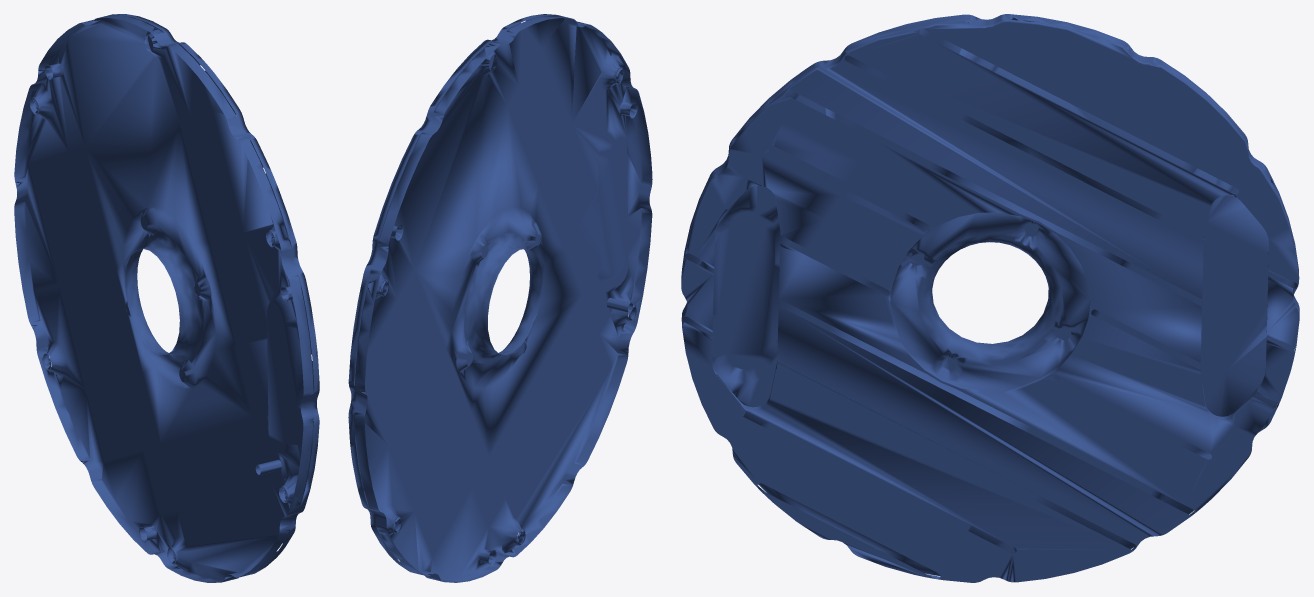
Rendered from anymal_hip_r_4.obj.
3 views of the same model, side by side, from view 1: azimuth 30°, elevation 25°; view 2: azimuth 150°, elevation 25°; view 3: azimuth 270°, elevation 25° (orthographic). The views are drawn at different scales.
Parts seen in each view (by area): view 1: anymal_hip_r_4; view 2: anymal_hip_r_4; view 3: anymal_hip_r_4.
Part boxes in pixels (x1,y1,x2,y2): anymal_hip_r_4: (14,14,319,582); anymal_hip_r_4: (348,14,652,582); anymal_hip_r_4: (681,14,1299,582).
Bounding box in the file's own units: 0.00651 × 0.0898 × 0.0898.
